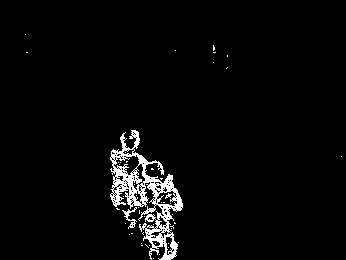person: (134, 160, 186, 260), (108, 128, 153, 241)
